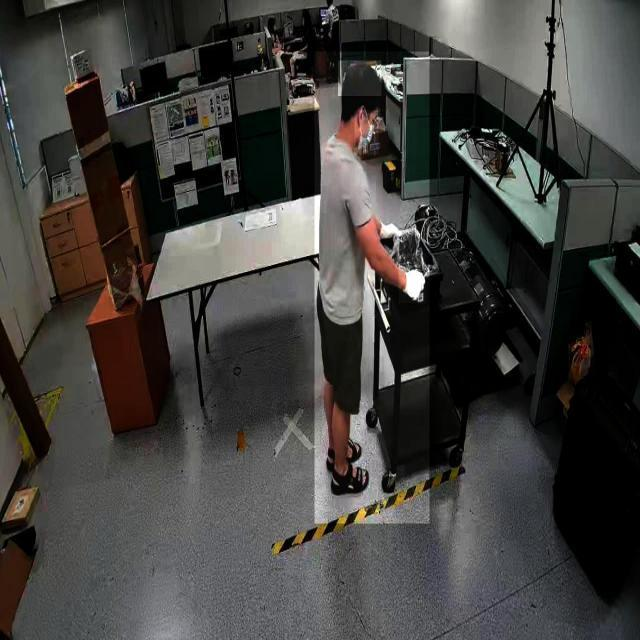gloves: (398, 253, 426, 303)
